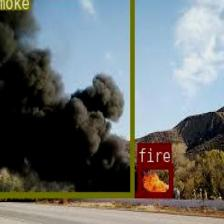fire: (137, 163, 172, 197)
smoke: (0, 0, 134, 197)
